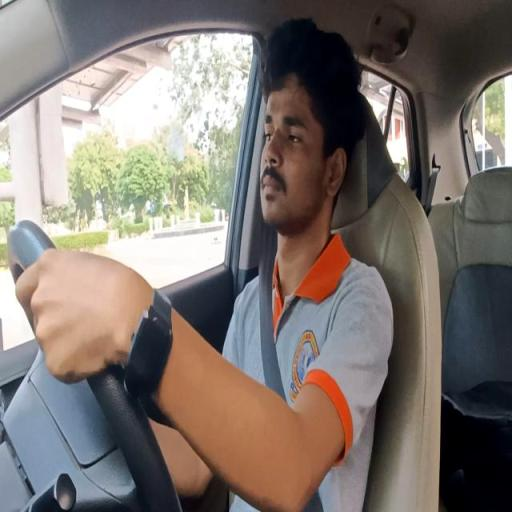sleepy: (251, 33, 362, 465)
